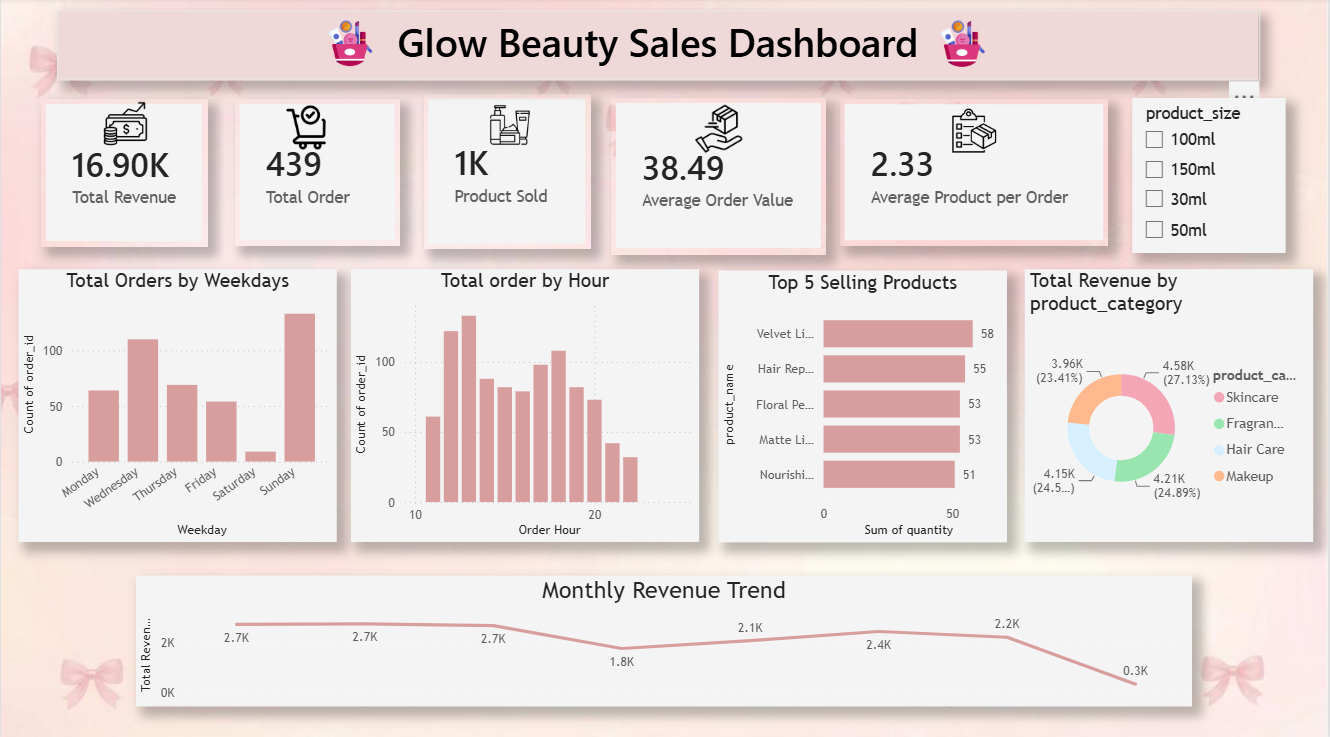

The page's visual inventory and layout, read from the dashboard file:
{"tool":"powerbi","page":{"name":"Page 1","canvas":[1280,720],"ordinal":0},"visuals":[{"type":"cardVisual","fields":{"Data":["Sheet1.Total Revenue"]},"box":[38.4,97.4,160.5,142.7],"z":0},{"type":"cardVisual","fields":{"Data":["Sheet1.Total Order"]},"box":[225,97.4,159.2,141.3],"z":1000},{"type":"cardVisual","fields":{"Data":["Sheet1.Product Sold"]},"box":[407.5,93.3,161.9,149.6],"z":2000},{"type":"cardVisual","fields":{"Data":["Sheet1.Average Order Value"]},"box":[588.7,96.1,207.2,150.9],"z":3000},{"type":"cardVisual","fields":{"Data":["Sheet1.Average Product per Order"]},"box":[809.6,97.4,259.3,141.3],"z":4000},{"type":"textbox","box":[54.9,12.3,1159.5,67.2],"z":5000},{"type":"clusteredColumnChart","title":"Total Orders by Weekdays","fields":{"Category":["Sheet1.Weekday"],"Y":["Count(Sheet1.order_id)"]},"box":[16.5,262.1,307.4,263.5],"z":6000},{"type":"clusteredColumnChart","title":"Total order by Hour","fields":{"Category":["Sheet1.Order Hour"],"Y":["CountNonNull(Sheet1.order_id)"]},"box":[337.6,262.1,336.2,263.5],"z":7000},{"type":"clusteredBarChart","title":"Top 5 Selling Products","fields":{"Category":["Sheet1.product_name"],"Y":["Sum(Sheet1.quantity)"]},"box":[693,263.5,278.6,262.1],"z":8000},{"type":"slicer","fields":{"Values":["Sheet1.product_size"]},"box":[1092.3,96.1,148.2,149.6],"z":9000},{"type":"lineChart","title":"Monthly Revenue Trend","fields":{"Category":["Sheet1.order_date.Variation.Date Hierarchy.Month","Sheet1.order_date.Variation.Date Hierarchy.Day"],"Y":["Sheet1.Total Revenue"]},"box":[130.4,557.1,1019.6,126.2],"z":10000},{"type":"donutChart","fields":{"Category":["Sheet1.product_category"],"Y":["Sheet1.Total Revenue"]},"box":[988,262.1,278.6,263.5],"z":10001},{"type":"image","box":[264.8,22,142.7,43.9],"z":10002},{"type":"image","box":[98.8,97.4,42.5,46.7],"z":10004},{"type":"image","box":[447.3,101.5,87.8,42.5],"z":10005},{"type":"image","box":[918,79.6,42.5,97.4],"z":10006},{"type":"image","box":[661.4,101.5,63.1,49.4],"z":10008},{"type":"image","box":[856.6,21.7,142.4,44.6],"z":10009},{"type":"image","box":[238.8,104.3,111.1,42.5],"z":10010}]}

Visuals, with their boxes in screenshot pixels (x1, y1, x2, y2), scaled from the page's 1280x720 canvas onto the 1330x737 screenshot:
cardVisual - Sheet1.Total Revenue: region(40, 100, 207, 246)
cardVisual - Sheet1.Total Order: region(234, 100, 399, 244)
cardVisual - Sheet1.Product Sold: region(423, 96, 592, 249)
cardVisual - Sheet1.Average Order Value: region(612, 98, 827, 253)
cardVisual - Sheet1.Average Product per Order: region(841, 100, 1111, 244)
textbox: region(57, 13, 1262, 81)
"Total Orders by Weekdays" clusteredColumnChart: region(17, 268, 337, 538)
"Total order by Hour" clusteredColumnChart: region(351, 268, 700, 538)
"Top 5 Selling Products" clusteredBarChart: region(720, 270, 1010, 538)
slicer - Sheet1.product_size: region(1135, 98, 1289, 252)
"Monthly Revenue Trend" lineChart: region(135, 570, 1195, 699)
donutChart - Sheet1.product_category x Sheet1.Total Revenue: region(1027, 268, 1316, 538)
image: region(275, 23, 423, 67)
image: region(103, 100, 147, 148)
image: region(465, 104, 556, 147)
image: region(954, 81, 998, 181)
image: region(687, 104, 753, 154)
image: region(890, 22, 1038, 68)
image: region(248, 107, 364, 150)
